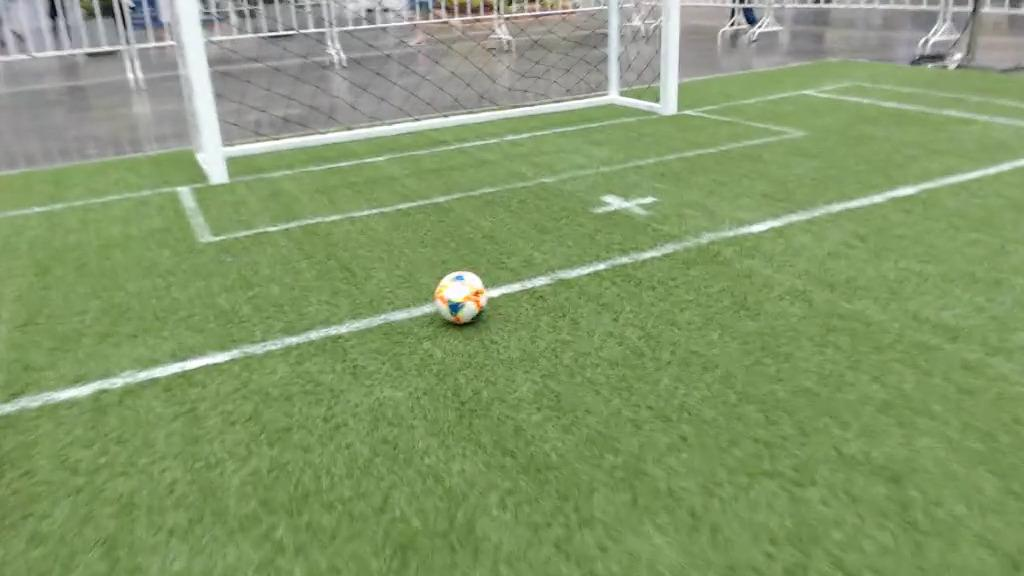ball: (436, 272, 486, 324)
